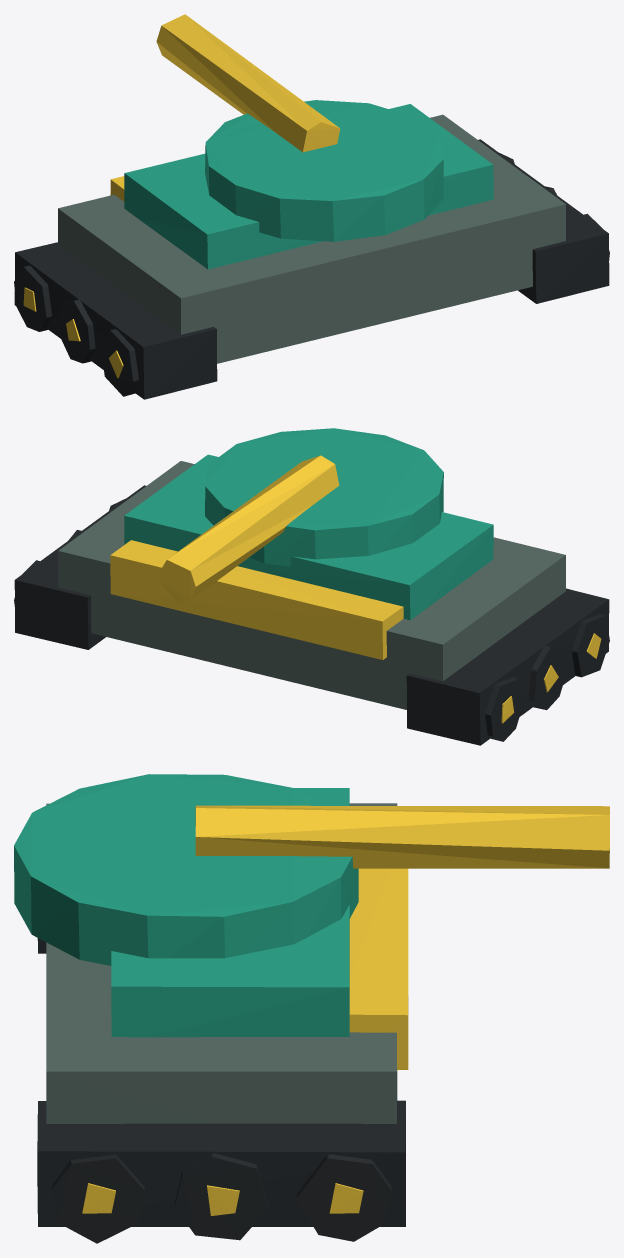
The model's file is SM_Coalition_CO_MonsoonArtillery_LOD3.fbx.
The picture shows the model from 3 angles, top to bottom: view 1: azimuth 30°, elevation 25°; view 2: azimuth 150°, elevation 25°; view 3: azimuth 270°, elevation 25°; orthographic projection. The views are drawn at different scales.
Parts seen in each view (by area): view 1: LOD03_SM_Coalition_CO_MonsoonArtillery; view 2: LOD03_SM_Coalition_CO_MonsoonArtillery; view 3: LOD03_SM_Coalition_CO_MonsoonArtillery.
Part boxes in pixels (x1=…): LOD03_SM_Coalition_CO_MonsoonArtillery: x1=14, y1=14, x2=609, y2=399; LOD03_SM_Coalition_CO_MonsoonArtillery: x1=14, y1=428, x2=609, y2=745; LOD03_SM_Coalition_CO_MonsoonArtillery: x1=14, y1=774, x2=609, y2=1243.
Bounding box in the file's own units: 572 × 432 × 216.
